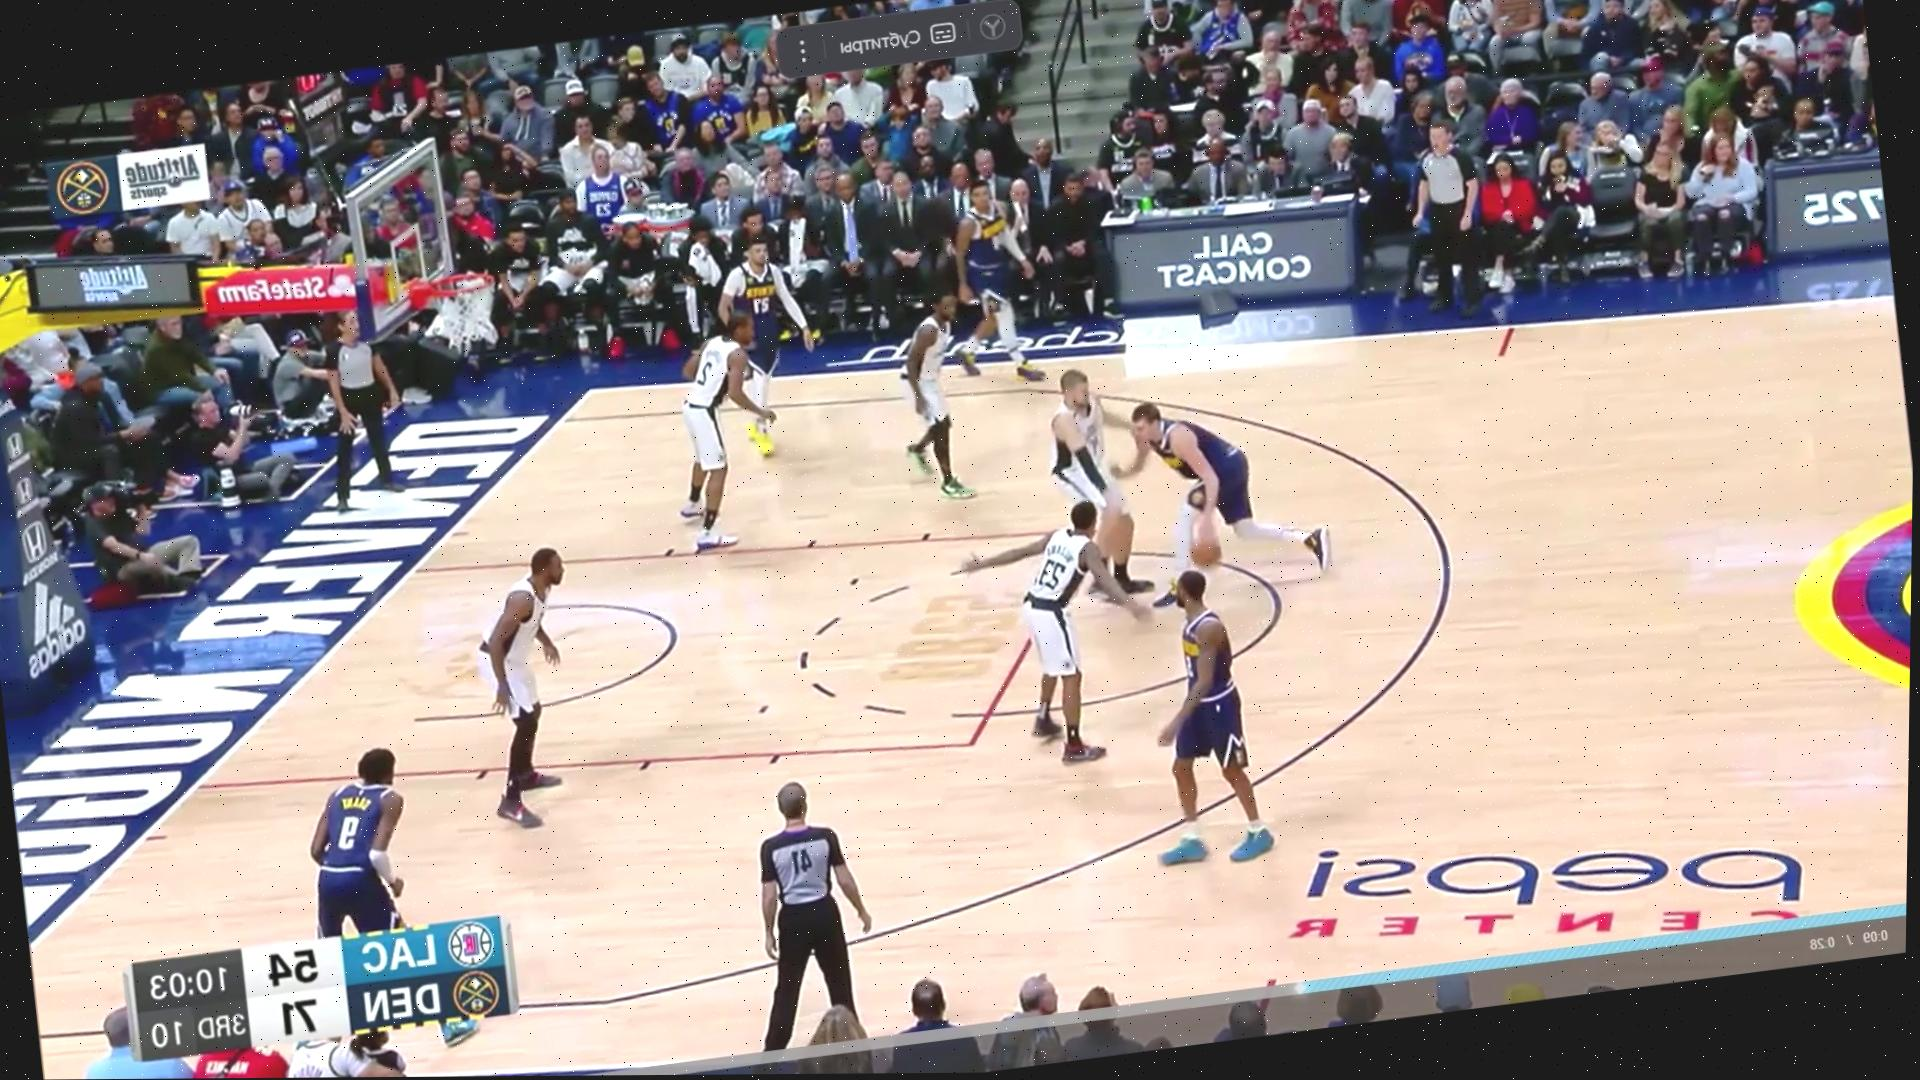foul: (986, 349, 1309, 620)
